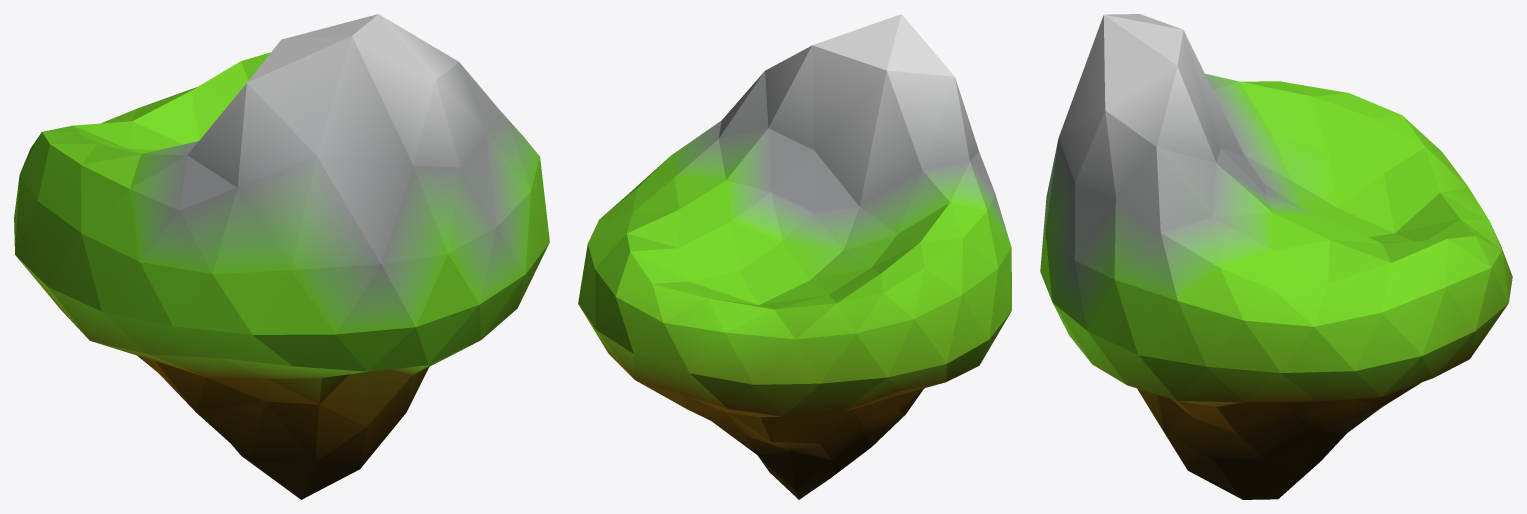
Rendered from IslandMesh.glb.
3 renders of one model, left to right at view 1: azimuth 30°, elevation 25°; view 2: azimuth 150°, elevation 25°; view 3: azimuth 270°, elevation 25°, orthographic. The views are drawn at different scales.
Parts seen in each view (by area): view 1: Icosphere; view 2: Icosphere; view 3: Icosphere.
Boxes of the visible parts, x1=… form: Icosphere: x1=14, y1=14, x2=549, y2=499; Icosphere: x1=578, y1=14, x2=1011, y2=499; Icosphere: x1=1040, y1=14, x2=1512, y2=499.
Bounding box in the file's own units: 19.85 × 21.54 × 19.52.
